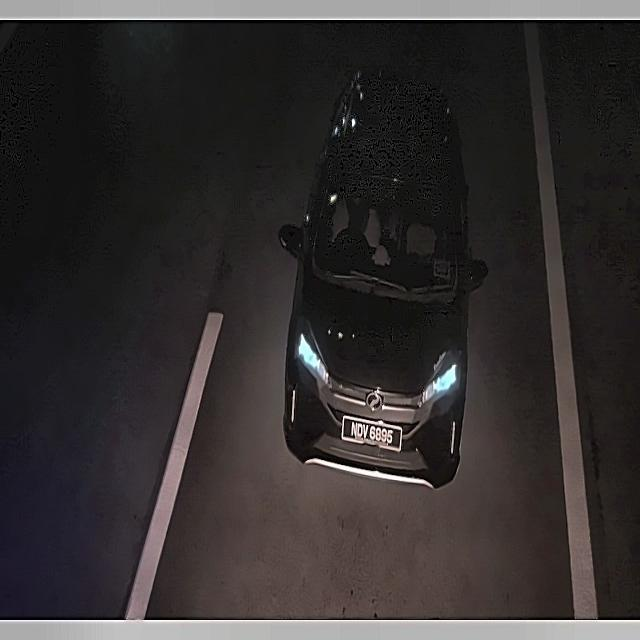car: (336, 408, 412, 457)
